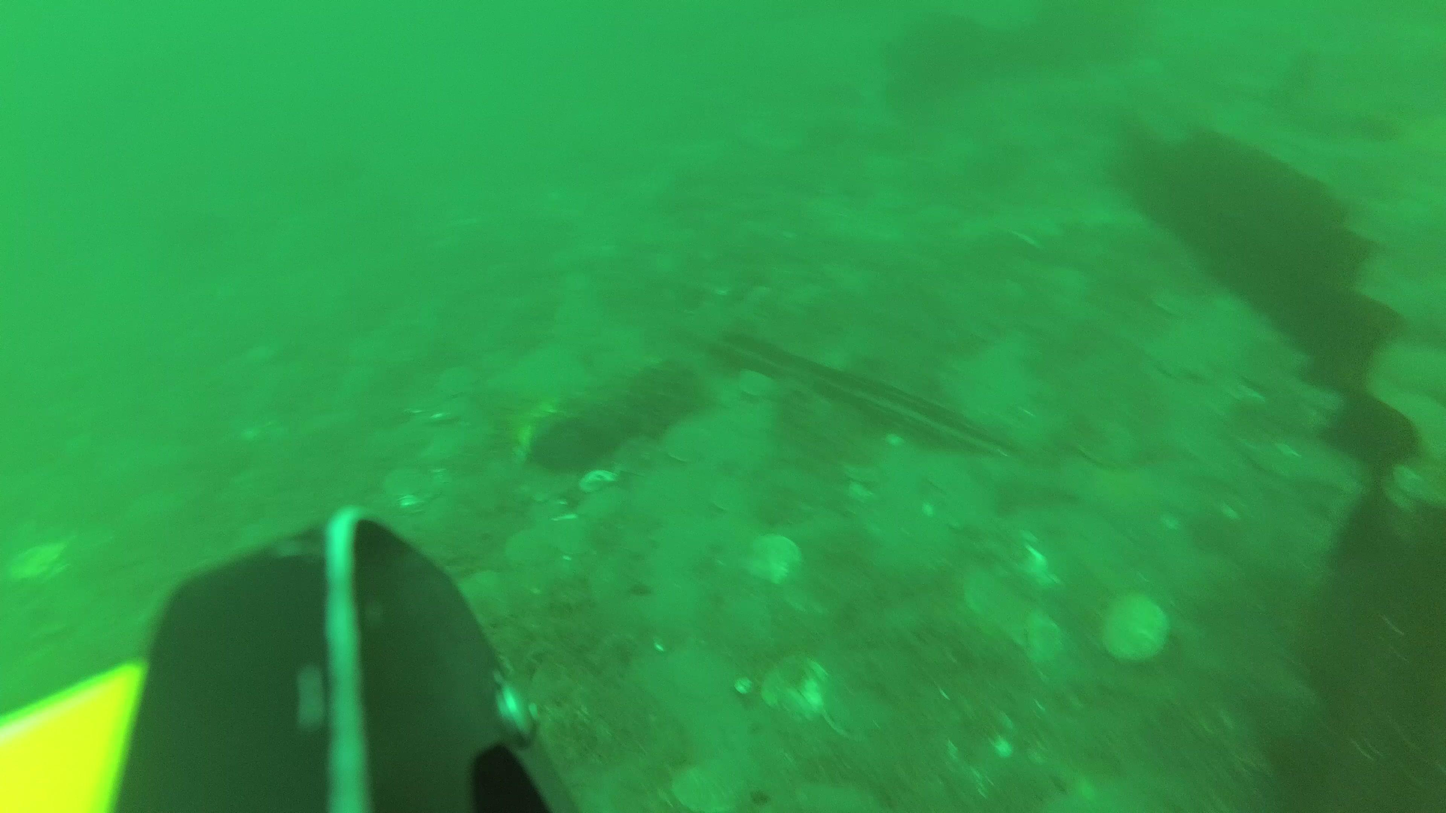scallop: (1150, 319, 1235, 384), (1104, 594, 1173, 671), (762, 656, 830, 731), (744, 531, 804, 589), (9, 539, 69, 586), (662, 421, 717, 464), (386, 467, 436, 511), (436, 368, 476, 397)
